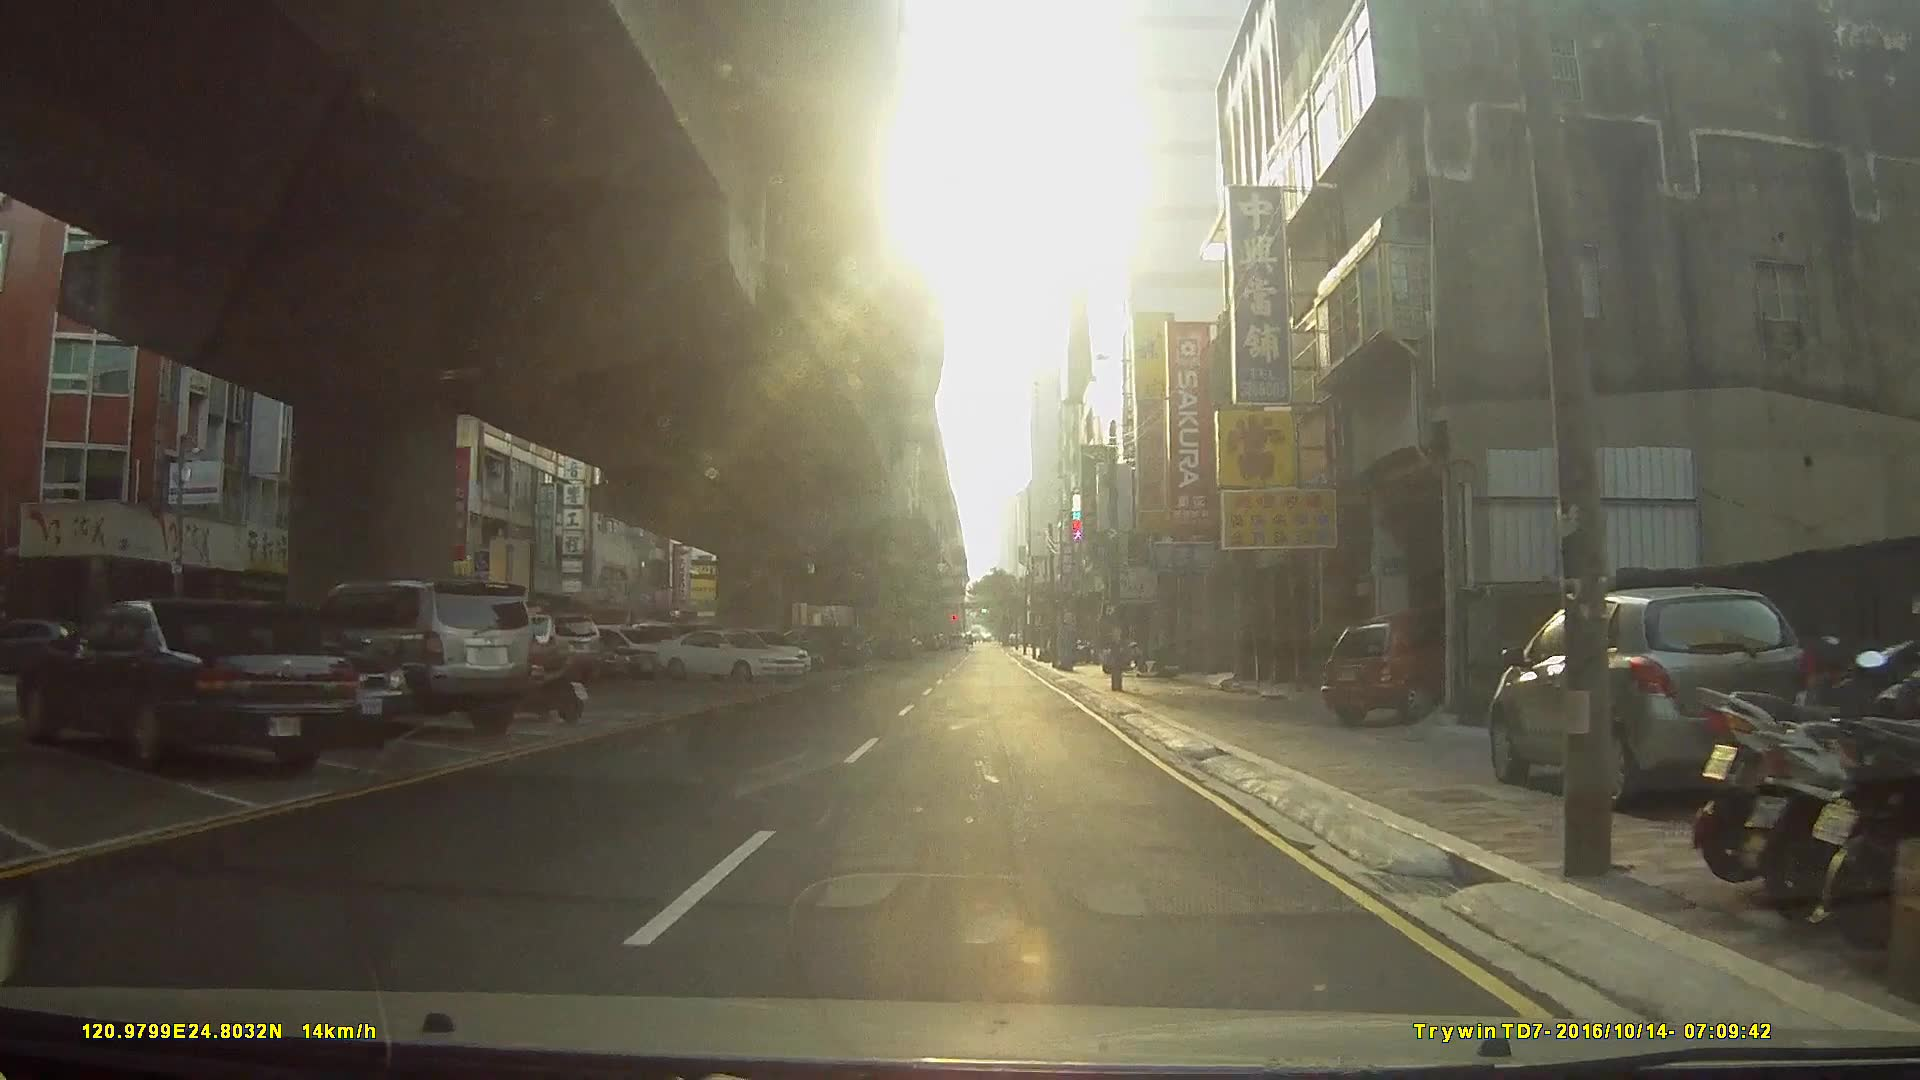vehicle: (1485, 580, 1820, 804), (16, 596, 361, 771), (289, 575, 545, 737), (1321, 607, 1491, 723), (650, 622, 804, 680), (513, 625, 662, 684), (489, 611, 601, 680), (0, 615, 80, 671)
